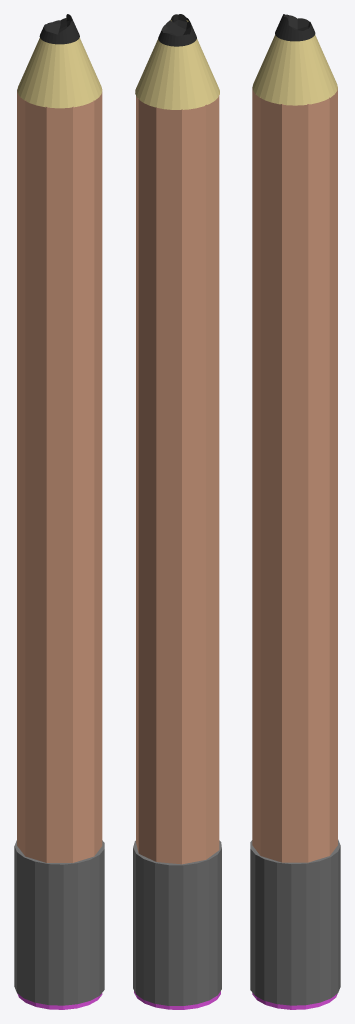
File: pencilBroken.fbx
The picture shows the model from 3 angles, left to right: view 1: azimuth 90°, elevation 25°; view 2: azimuth 150°, elevation 25°; view 3: azimuth 270°, elevation 25°; orthographic projection.
Visible parts, largest first — view 1: Cylinder, Cylinder.001, Cone, Cone.001, Cylinder.002; view 2: Cylinder, Cylinder.001, Cone, Cone.001, Cylinder.002; view 3: Cylinder, Cylinder.001, Cone, Cone.001, Cylinder.002.
Part boxes in pixels (x1=…): Cylinder: x1=17, y1=90, x2=102, y2=862; Cylinder.001: x1=14, y1=840, x2=104, y2=1005; Cone: x1=17, y1=38, x2=102, y2=108; Cone.001: x1=39, y1=14, x2=79, y2=44; Cylinder.002: x1=17, y1=993, x2=102, y2=1009; Cylinder: x1=136, y1=95, x2=219, y2=864; Cylinder.001: x1=133, y1=840, x2=221, y2=1005; Cone: x1=135, y1=20, x2=219, y2=109; Cone.001: x1=158, y1=14, x2=196, y2=46; Cylinder.002: x1=134, y1=991, x2=220, y2=1009; Cylinder: x1=252, y1=87, x2=337, y2=862; Cylinder.001: x1=250, y1=839, x2=340, y2=1005; Cone: x1=252, y1=34, x2=337, y2=105; Cone.001: x1=275, y1=14, x2=315, y2=41; Cylinder.002: x1=252, y1=993, x2=337, y2=1009.
Size of the model in its own units: 35.34 by 429 by 35.88.
